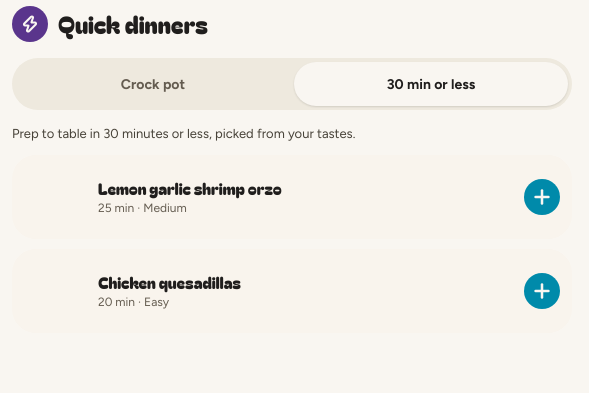
QuickDinnersPage › Add to Quest log › marks an add that settles while another tab is shown
Expected: the list item "Lemon garlic shrimp orzo" is shown, 12,155 -> 572,239
Click the button named "Add Lemon garlic shrimp orzo to the Quest log".
click(542, 197)  # box 520,175 -> 564,219
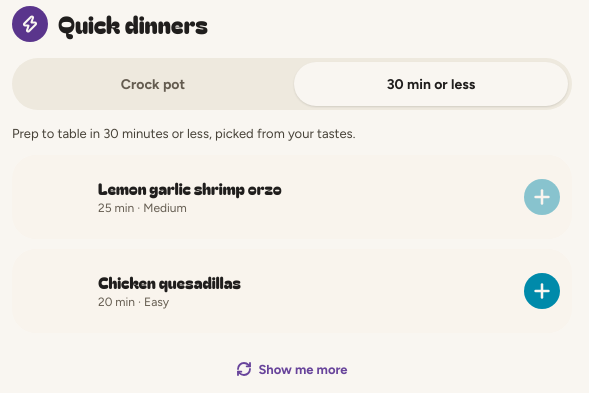
Click the radio button labelled "Crock pot".
click(153, 84)  # box 16,62 -> 290,106
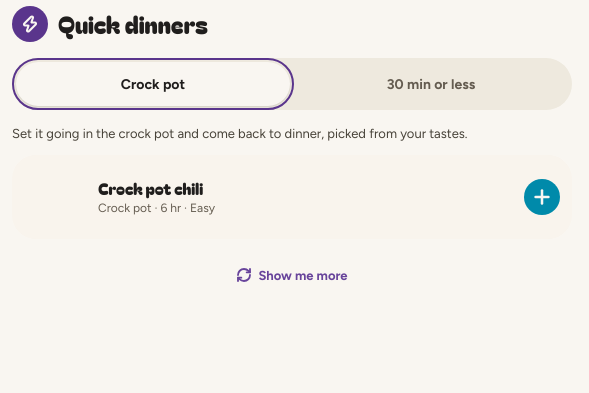
Expected: the list item "Crock pot chili" is shown, 12,155 -> 572,239
Click the radio button labelled "30 min or less".
click(431, 84)  # box 294,62 -> 568,106
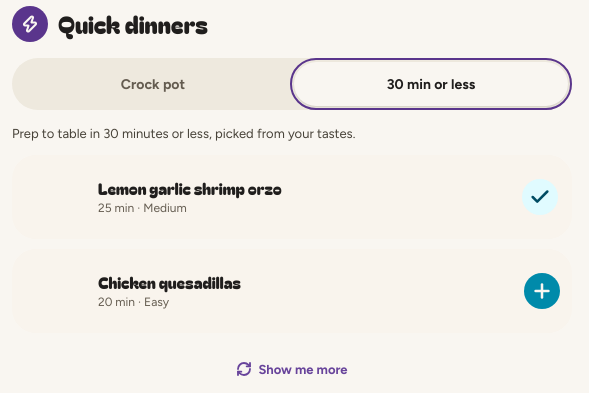
Expected: the picture named "In the Quest log" is shown, 529,186 -> 551,208
